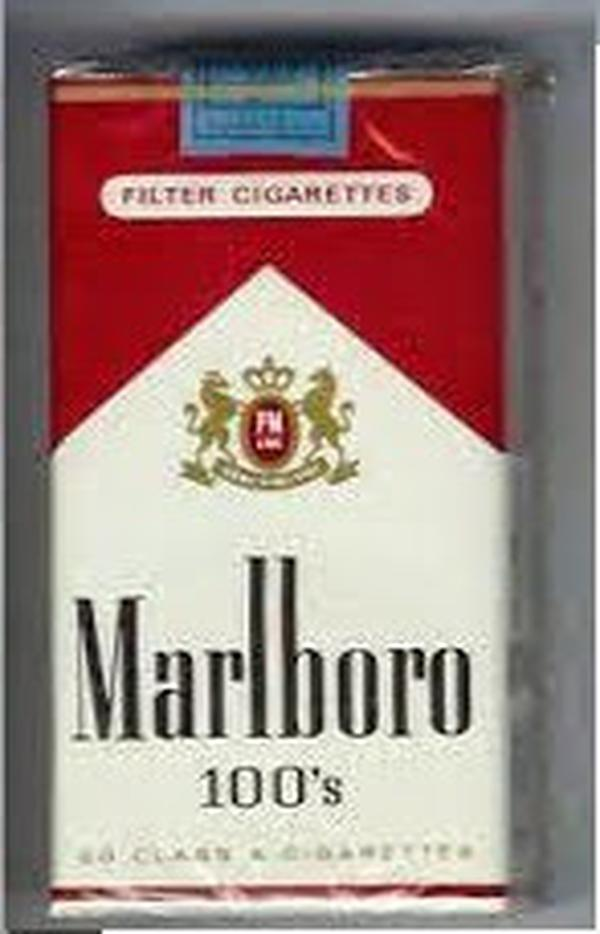marlboro_red: (53, 87, 508, 913)
